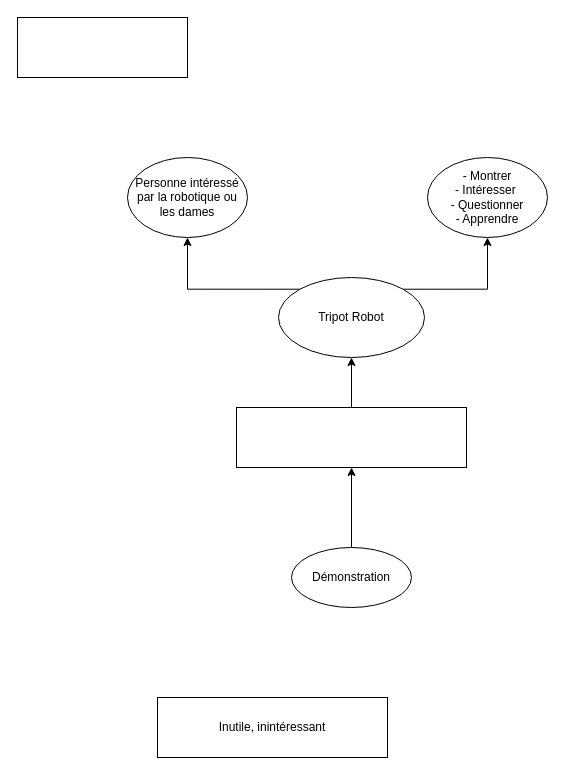
This 565x775 diagram has some shape labels left out. The centre of each missing label's shape, as x and y in pixels:
"Contexte : Projet académique pour Télécom Saint Etienne" goes at point (102, 47).
"Démonstration académique" goes at point (351, 437).
